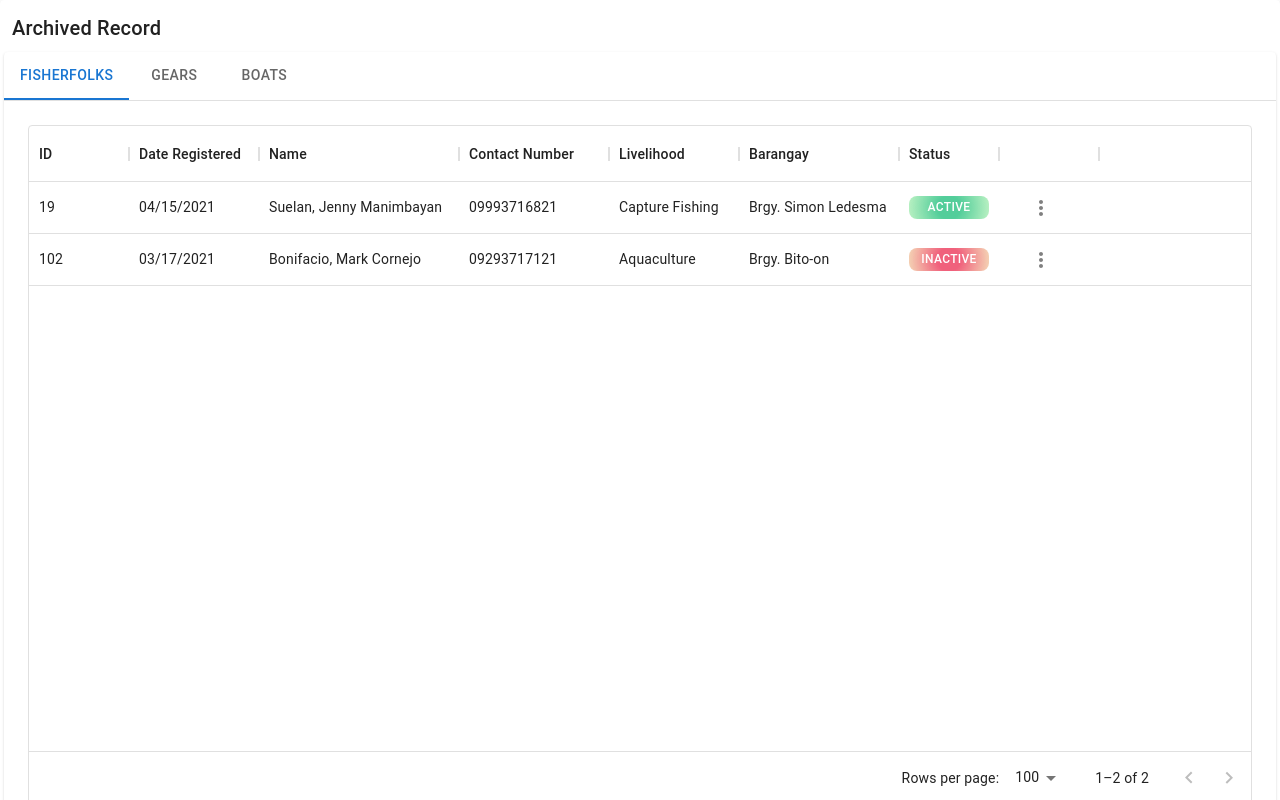
Test: Archived Fisherfolk Record Page › check if user is able to view a record
This screenshot has width=1280, height=800.
Expected: the row that starts with "Bonifacio, Mark Cornejo" is shown, x1=29 y1=234 x2=1251 y2=286
clicks the kebab icon
Click the button named "fisherfolk-action-btn" in the row of "102": coordinates (1041, 260) x1=1009 y1=242 x2=1073 y2=278
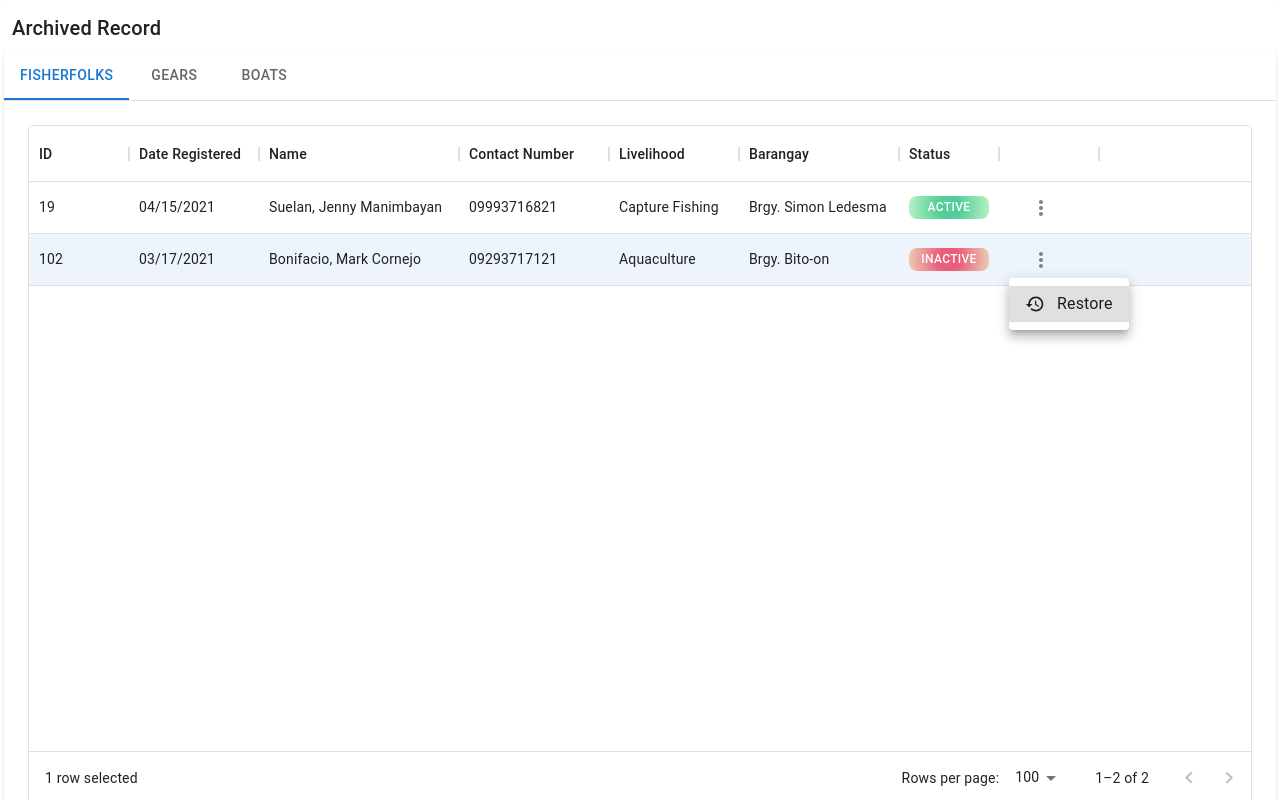
Expected: the menu item "Restore" is shown, x1=1009 y1=286 x2=1129 y2=322
